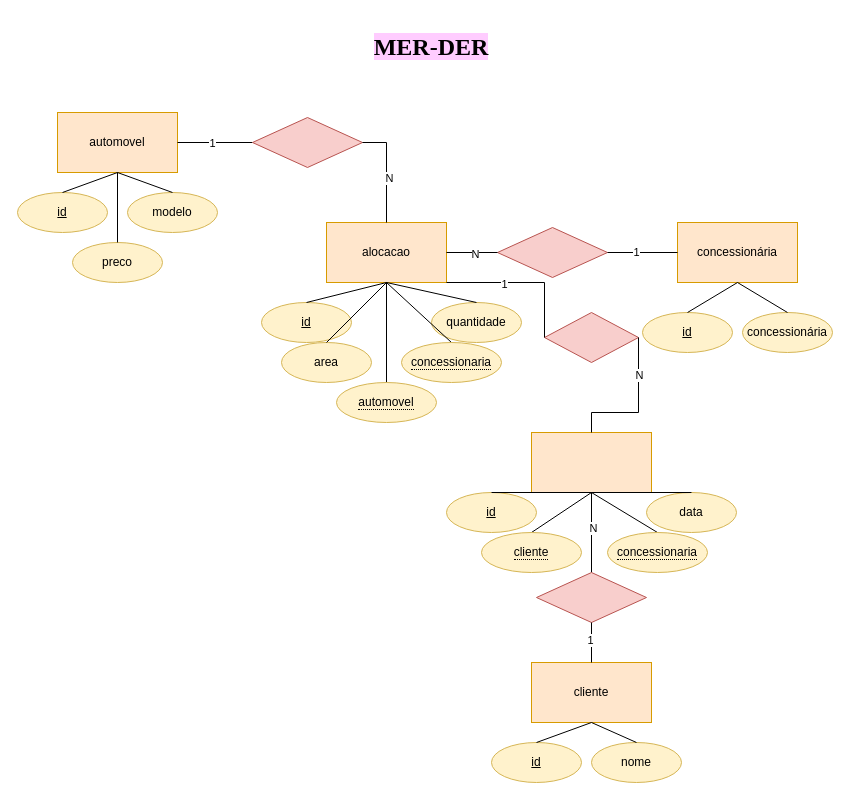
Some shapes in this 850 by 800 pixel diagram are drawn without their labels. Here are the shapes that lost their labels. From the top down, the centre of each, then its label:
At (307,142): "possui".
At (552,252): "contem".
At (591,337): "faz".
At (591,462): "venda".
At (591,597): "compra".
